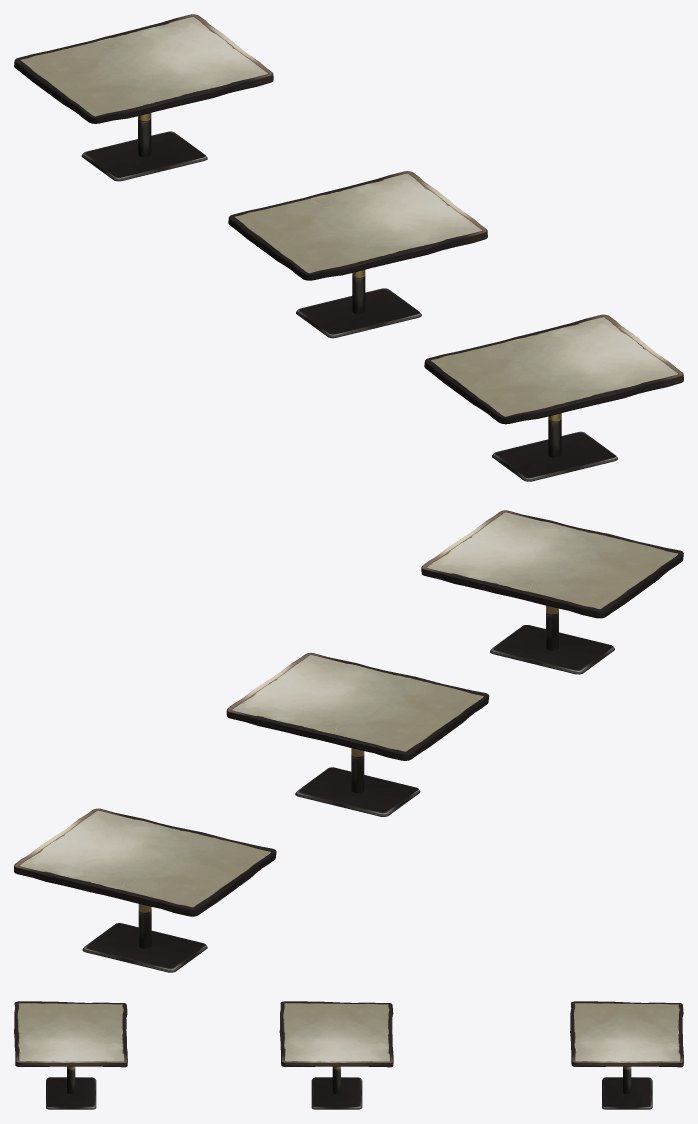
Rendered from mesas.obj.
3 renders of one model, top to bottom at view 1: azimuth 30°, elevation 25°; view 2: azimuth 150°, elevation 25°; view 3: azimuth 270°, elevation 25°, orthographic. The views are drawn at different scales.
Visible parts, largest first — view 1: tableA00.001_meshId153; view 2: tableA00.001_meshId153; view 3: tableA00.001_meshId153.
Part boxes in pixels (left/top/right/bottom): tableA00.001_meshId153: left=14, top=14, right=683, bottom=481; tableA00.001_meshId153: left=14, top=510, right=683, bottom=972; tableA00.001_meshId153: left=14, top=1001, right=683, bottom=1109.
Size of the model in its own units: 4.56 by 2.15 by 20.98.
Materials: 2 (2 with a texture image).
